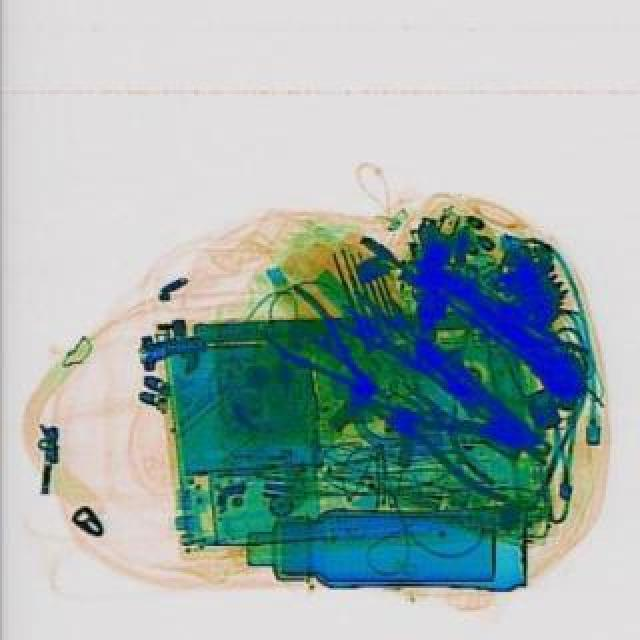wrench: (342, 368, 542, 506), (246, 280, 390, 412)
